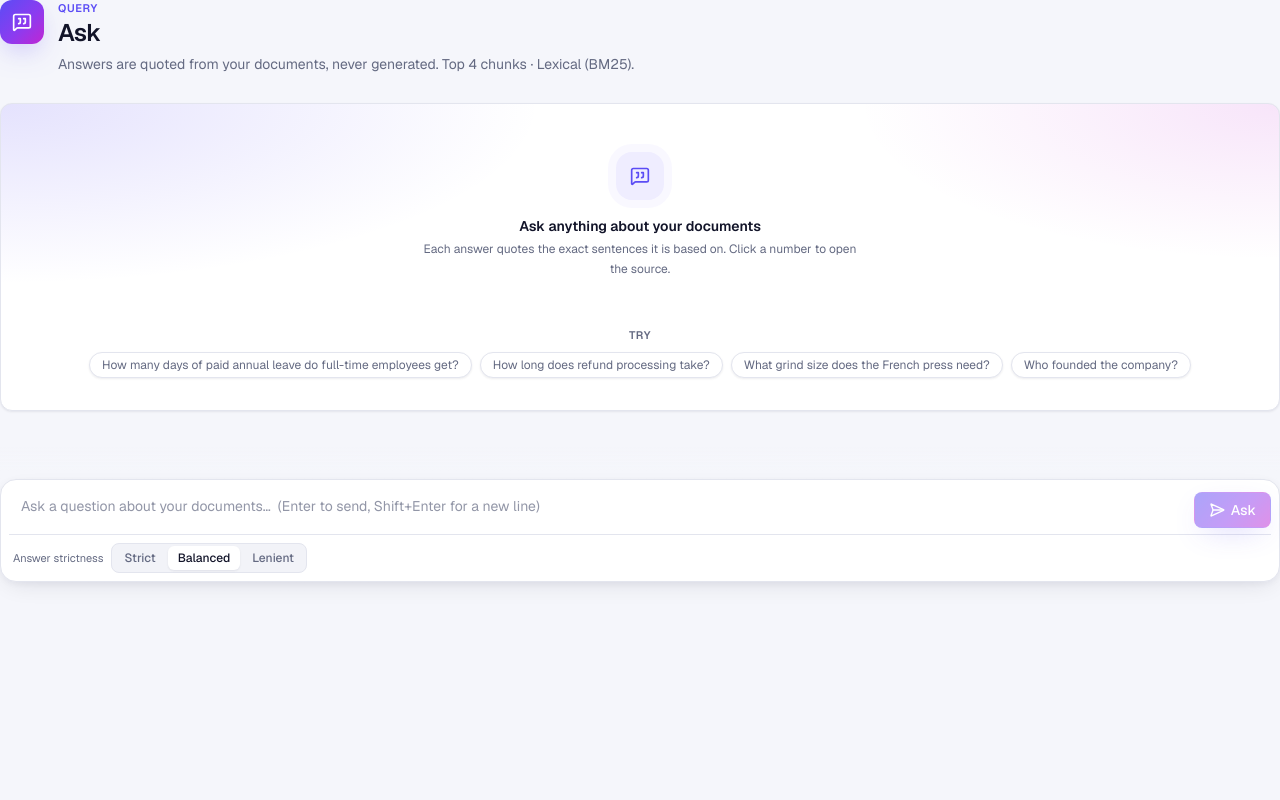
Test: AskView › answers with a citation that opens the source chunk
Expected: the heading "Ask" is shown, 58,16 -> 101,48
Type "How many days of paid annual leave do full-time employees get?" into the text box labelled "question" at (597, 508), box 9,488 -> 1186,528
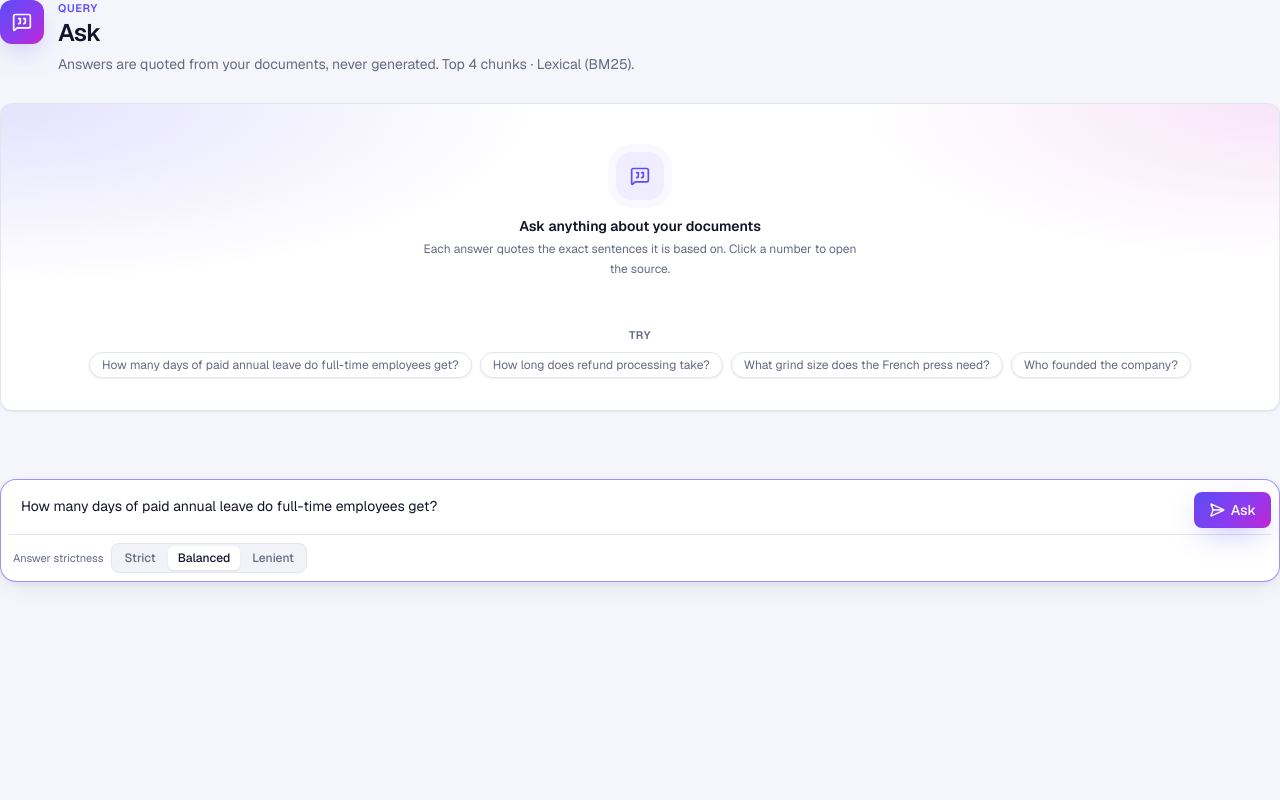
Click the button "Ask" at (1232, 510), box 1194,492 -> 1271,528
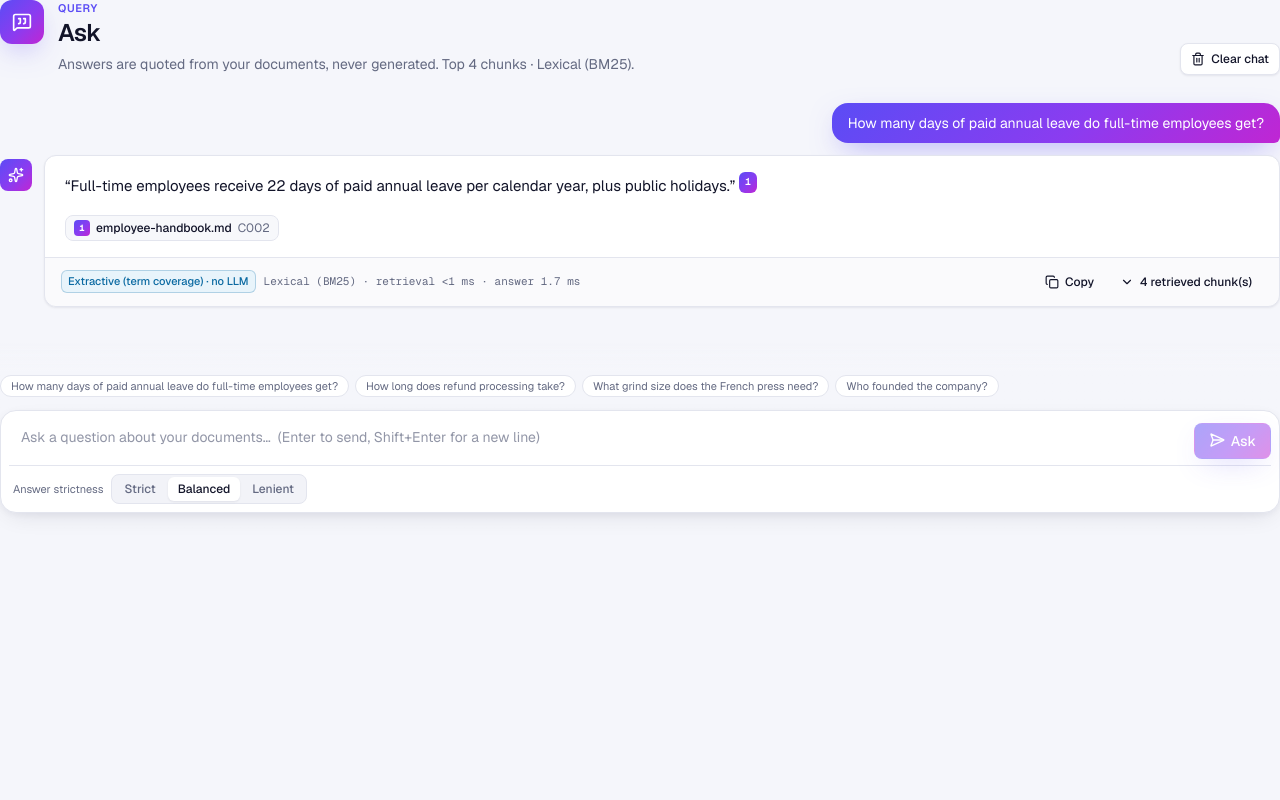
Now the element with test id "answer" shows "22 days of paid annual leave", box 70,176 -> 730,195
Click the button named "Citation 1" at (748, 182), box 739,172 -> 757,193
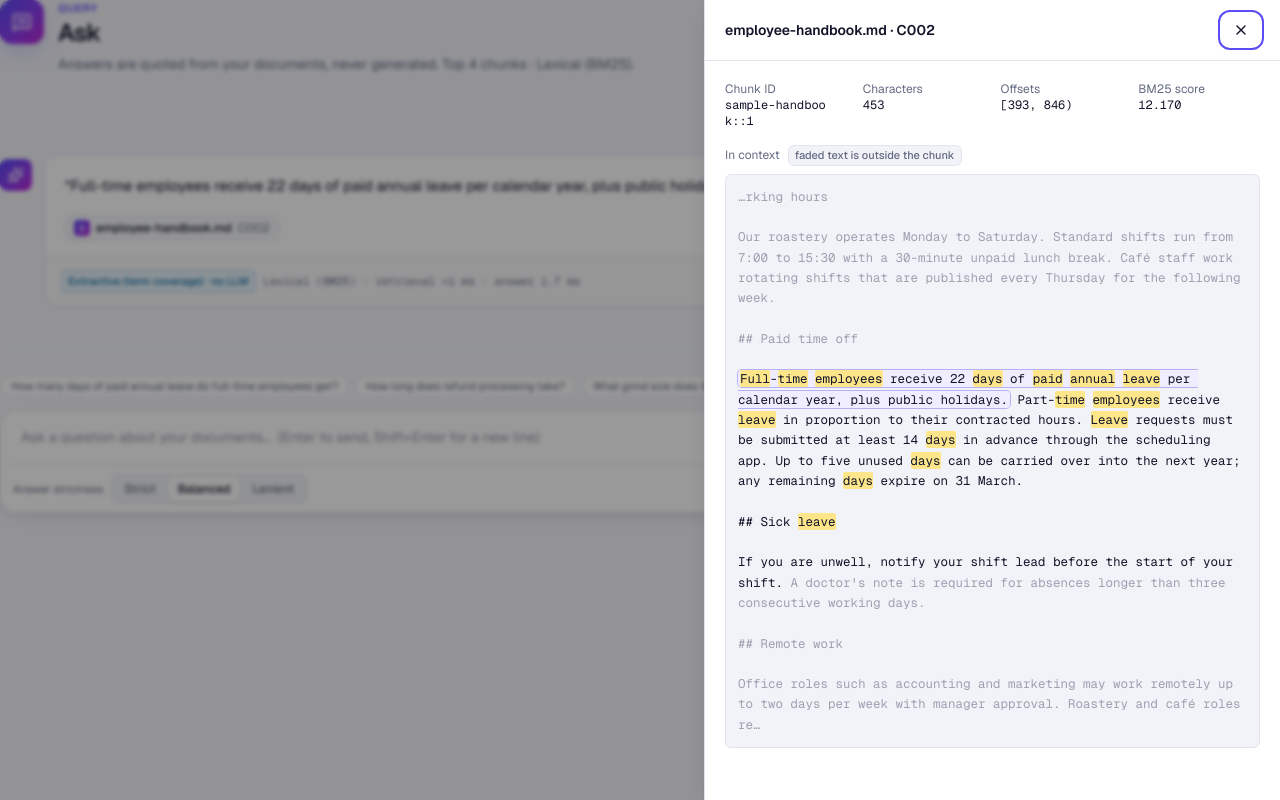
Now the dialog shows "employee-handbook.md", box 725,21 -> 935,39
Now the dialog shows "22 days of paid annual leave", box 704,0 -> 1279,799
Press Escape
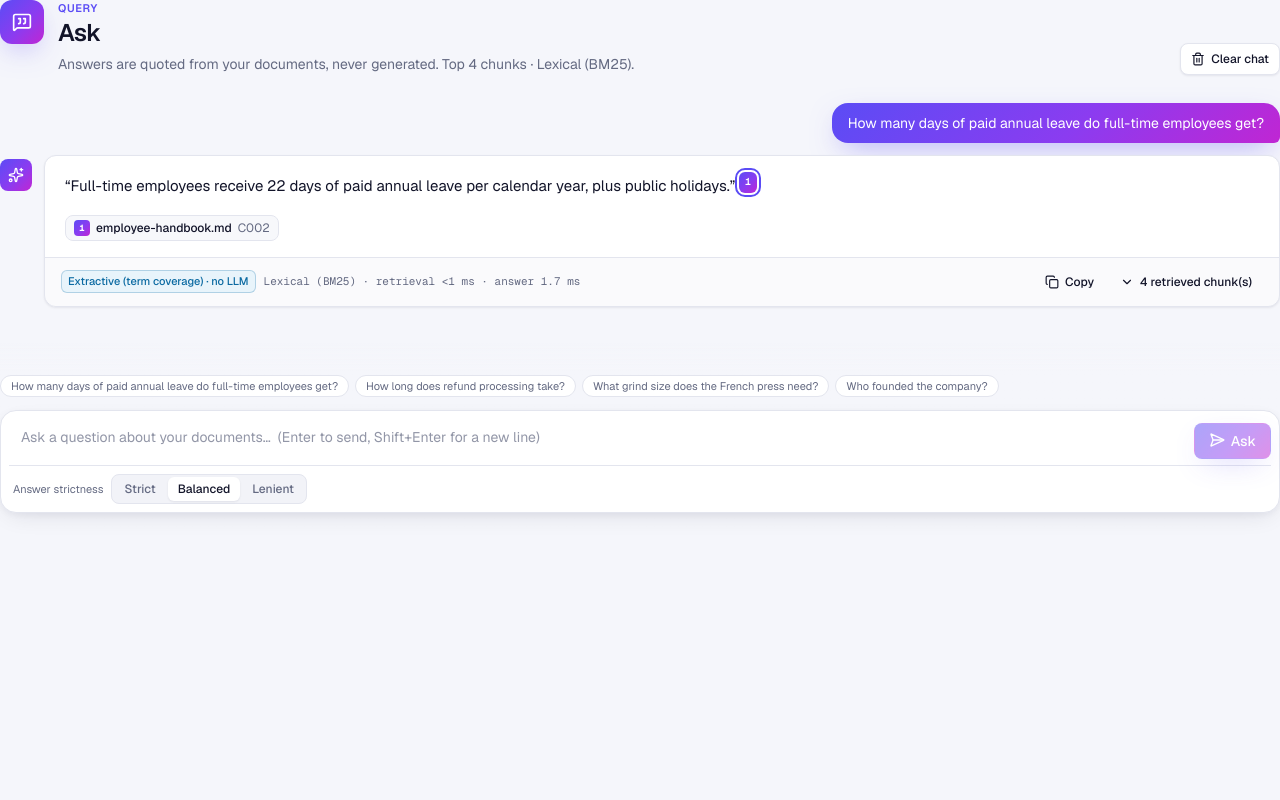
Now the dialog is gone
